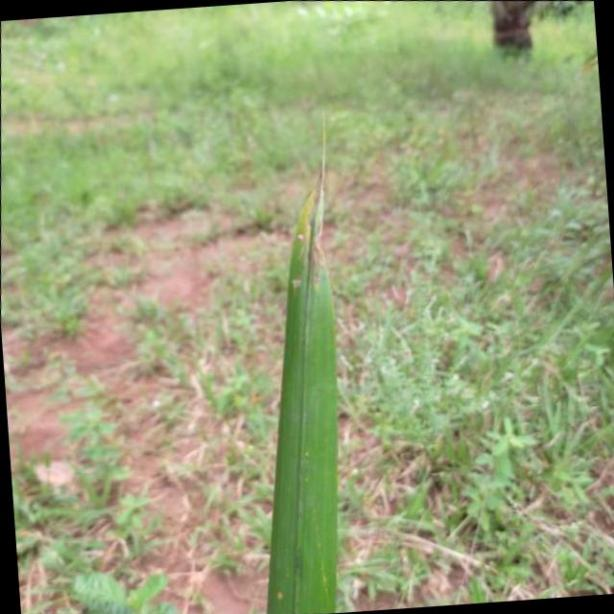Kalium: (266, 115, 350, 614)
